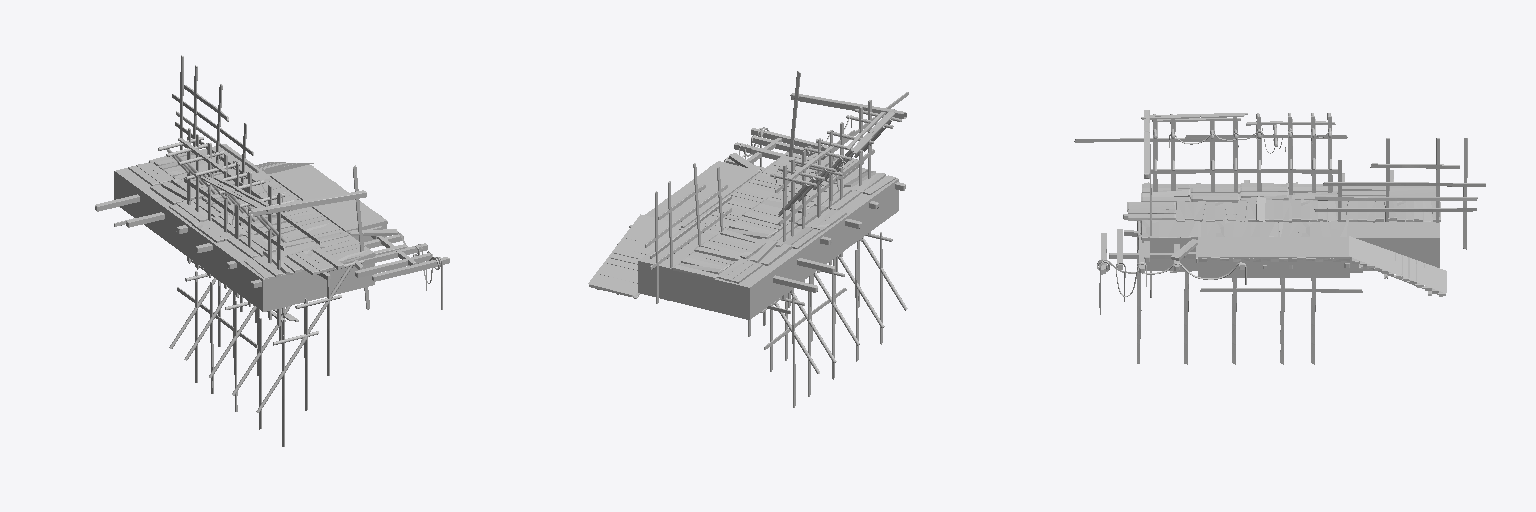
3 renders of one model, left to right at view 1: azimuth 30°, elevation 25°; view 2: azimuth 150°, elevation 25°; view 3: azimuth 270°, elevation 25°, orthographic.
Visible parts, largest first — view 1: M_2_o4808_floor_meshId2_name, M_0_o4520_4_meshId0_name; view 2: M_2_o4808_floor_meshId2_name, M_0_o4520_4_meshId0_name; view 3: M_2_o4808_floor_meshId2_name, M_0_o4520_4_meshId0_name, M_1_m30_00_rope1_meshId1_name.
Part boxes in pixels (x1,y1,x2,y2): M_2_o4808_floor_meshId2_name: (114,144,397,311); M_0_o4520_4_meshId0_name: (95,55,449,446); M_2_o4808_floor_meshId2_name: (588,152,898,319); M_0_o4520_4_meshId0_name: (597,71,908,407); M_2_o4808_floor_meshId2_name: (1127,183,1446,296); M_0_o4520_4_meshId0_name: (1074,110,1485,364); M_1_m30_00_rope1_meshId1_name: (1097,121,1331,314).
Bounding box in the file's own units: 13.56 × 15.97 × 23.03.